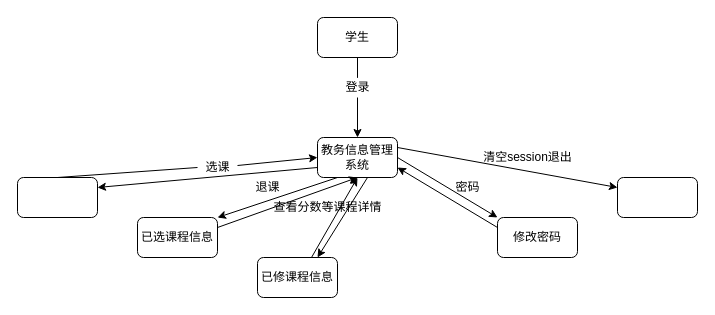
Image size: 715x315. Some labels were removed from this diagram. The centre of each missing label's shape, as x and y in pixels:
"所有课程信息" goes at (x=57, y=197).
"退出系统" goes at (x=657, y=197).
